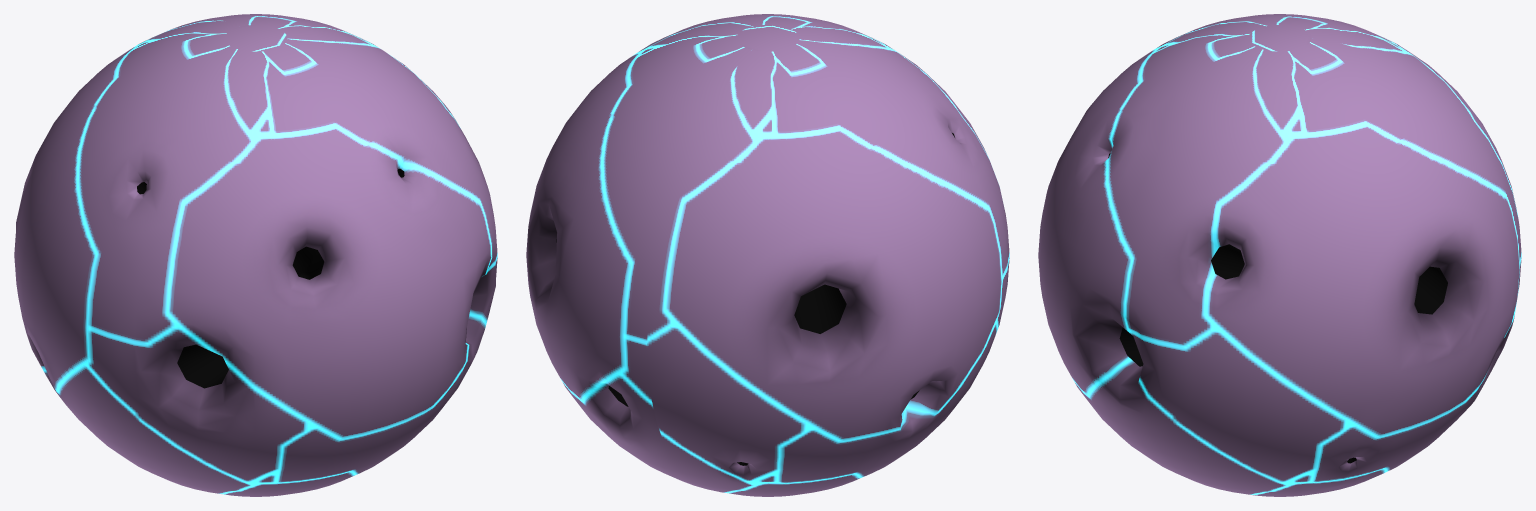
File: OrbPBR_David4.glb
The picture shows the model from 3 angles, left to right: view 1: azimuth 30°, elevation 25°; view 2: azimuth 150°, elevation 25°; view 3: azimuth 270°, elevation 25°; orthographic projection.
Visible parts, largest first — view 1: Orb_low; view 2: Orb_low; view 3: Orb_low.
Boxes of the visible parts, box(x1,y1,x2,y2) form: Orb_low: box(14, 14, 497, 496); Orb_low: box(526, 14, 1009, 496); Orb_low: box(1038, 14, 1521, 496).
Size of the model in its own units: 30.23 by 30.23 by 30.23.
Materials: 1 (1 with a texture image).
